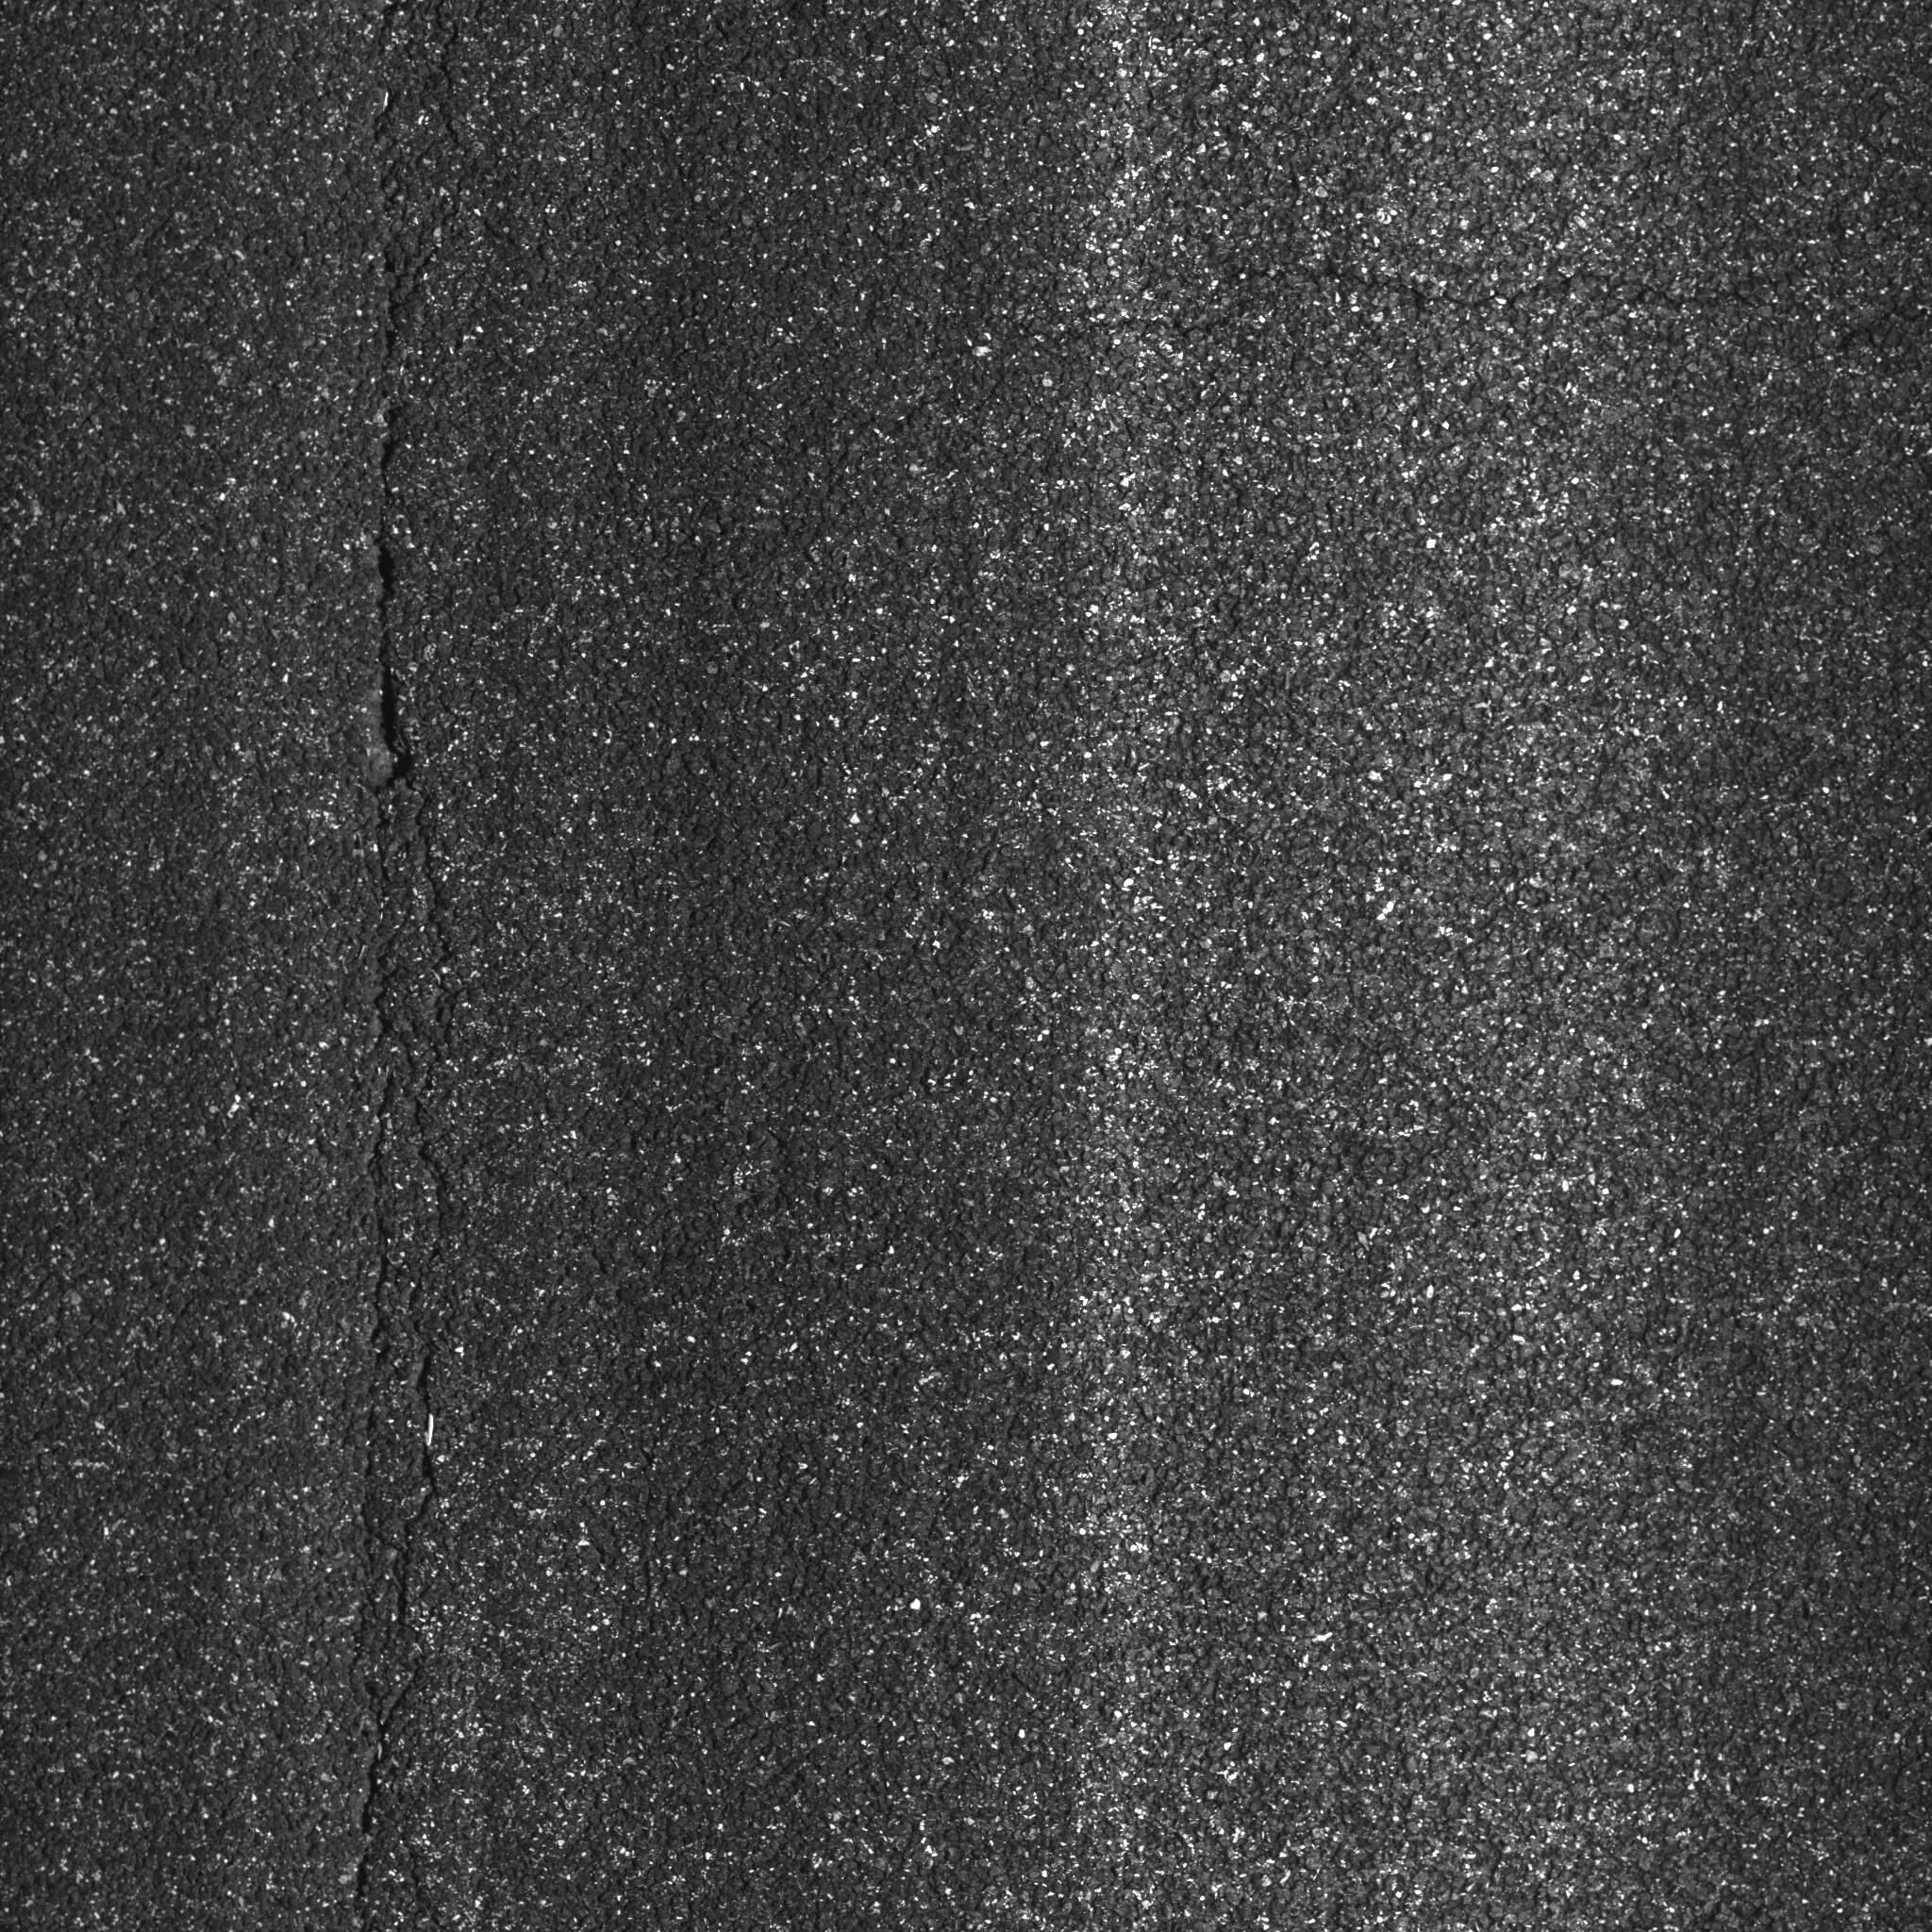longitudinal: (318, 12, 522, 1909)
